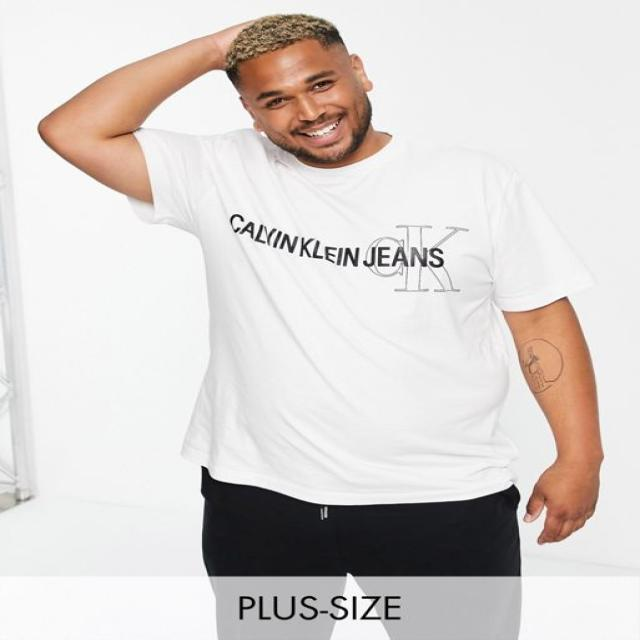tshirt: (130, 124, 586, 503)
